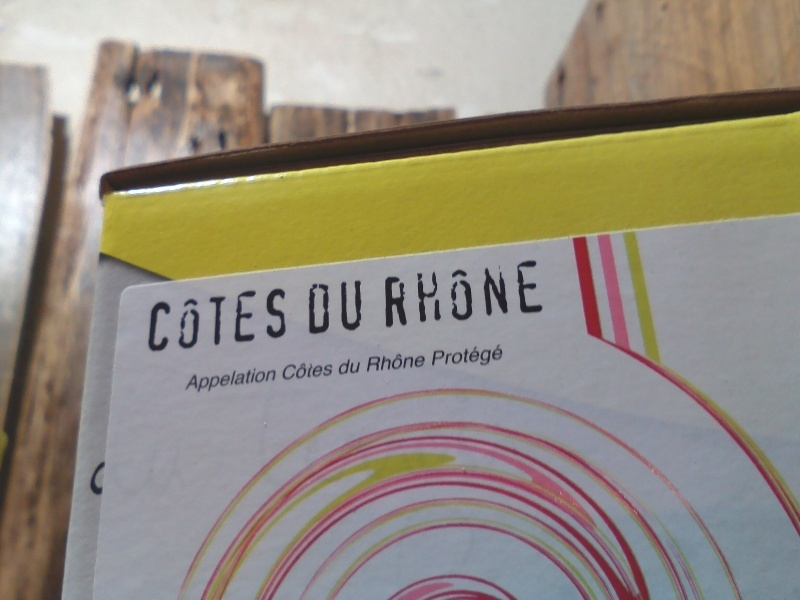text: (161, 284, 176, 355), (177, 284, 192, 355), (193, 284, 208, 355), (209, 284, 224, 355), (225, 284, 240, 355), (241, 284, 256, 355), (257, 284, 272, 355), (273, 284, 288, 355), (385, 258, 400, 329), (401, 258, 416, 329), (417, 258, 432, 329), (433, 258, 448, 329), (449, 258, 464, 329), (465, 258, 480, 329), (481, 258, 496, 329), (497, 258, 512, 329), (513, 258, 528, 329), (529, 258, 544, 329), (321, 280, 336, 336), (337, 280, 352, 336), (308, 280, 320, 336), (151, 284, 160, 355), (353, 280, 364, 336), (193, 365, 208, 395), (209, 365, 224, 395), (225, 365, 240, 395), (241, 365, 256, 395), (257, 365, 272, 395), (433, 343, 448, 369), (449, 343, 464, 369), (465, 343, 480, 369), (481, 343, 496, 369), (289, 360, 304, 381), (305, 360, 320, 381), (369, 352, 384, 373), (385, 352, 400, 373), (401, 352, 416, 373), (321, 360, 334, 381), (417, 352, 427, 373), (341, 358, 352, 377), (497, 343, 505, 369), (353, 358, 363, 377), (273, 365, 278, 395), (382, 258, 384, 329), (545, 258, 547, 329), (283, 360, 288, 381)
